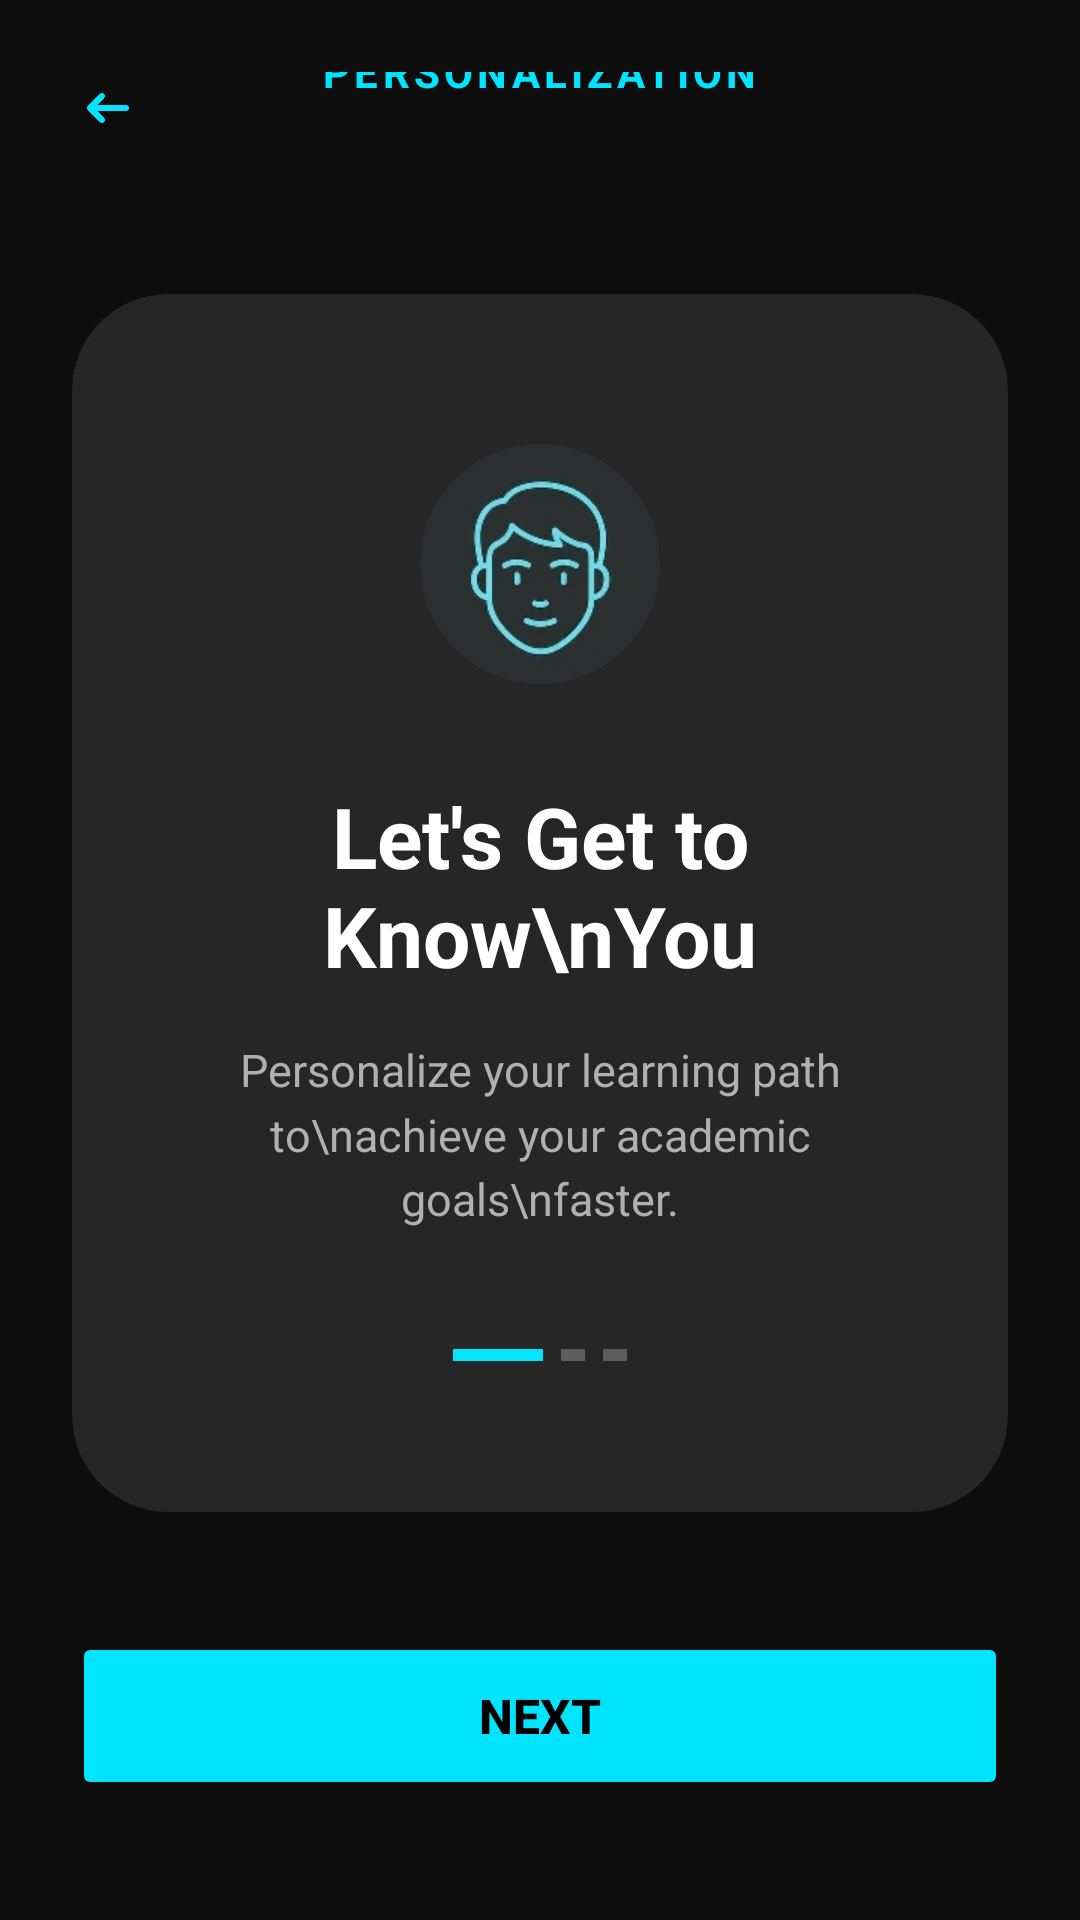

Icons on this 1080*1920 Android screen, each with its box as (left=x1, top=y1, right=x2, bottom=y2):
arrow back: (left=87, top=93, right=129, bottom=123)
